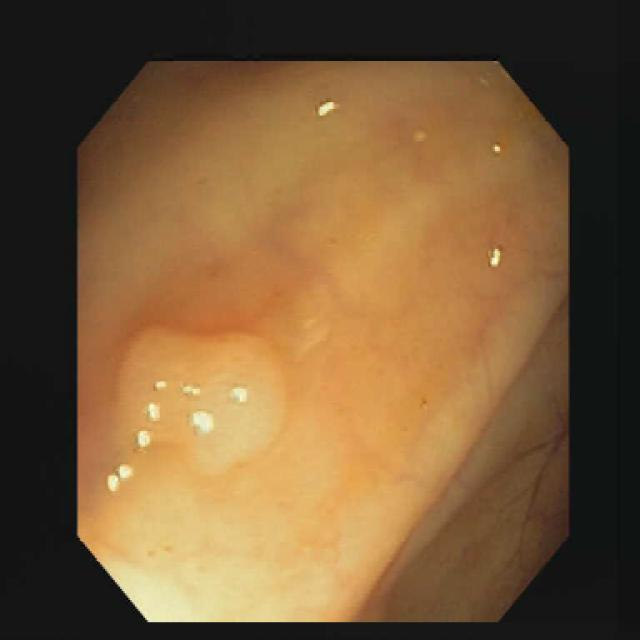tumor: (115, 327, 285, 480)
